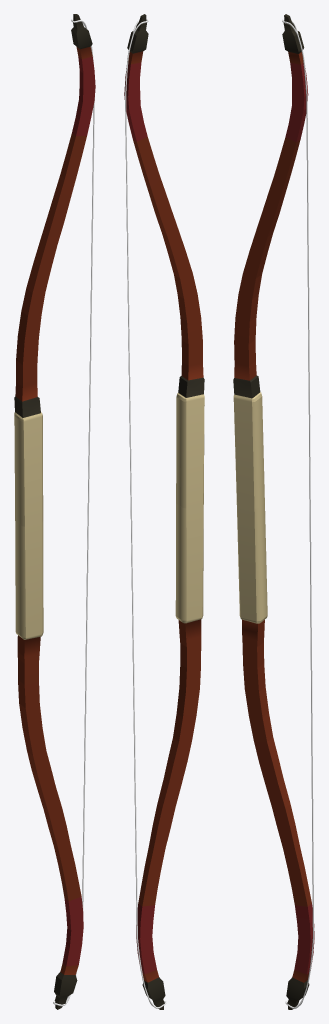
File: Weapon_Bow_V1.fbx
3 views of the same model, side by side, from view 1: azimuth 30°, elevation 25°; view 2: azimuth 210°, elevation 25°; view 3: azimuth 330°, elevation 25° (orthographic).
Parts seen in each view (by area): view 1: Bow; view 2: Bow; view 3: Bow.
Boxes of the visible parts, box(x1,y1,x2,y2) form: Bow: box(14, 14, 95, 1009); Bow: box(124, 14, 204, 1009); Bow: box(233, 14, 314, 1009).
Bounding box in the file's own units: 7.19 × 93.33 × 2.73.
